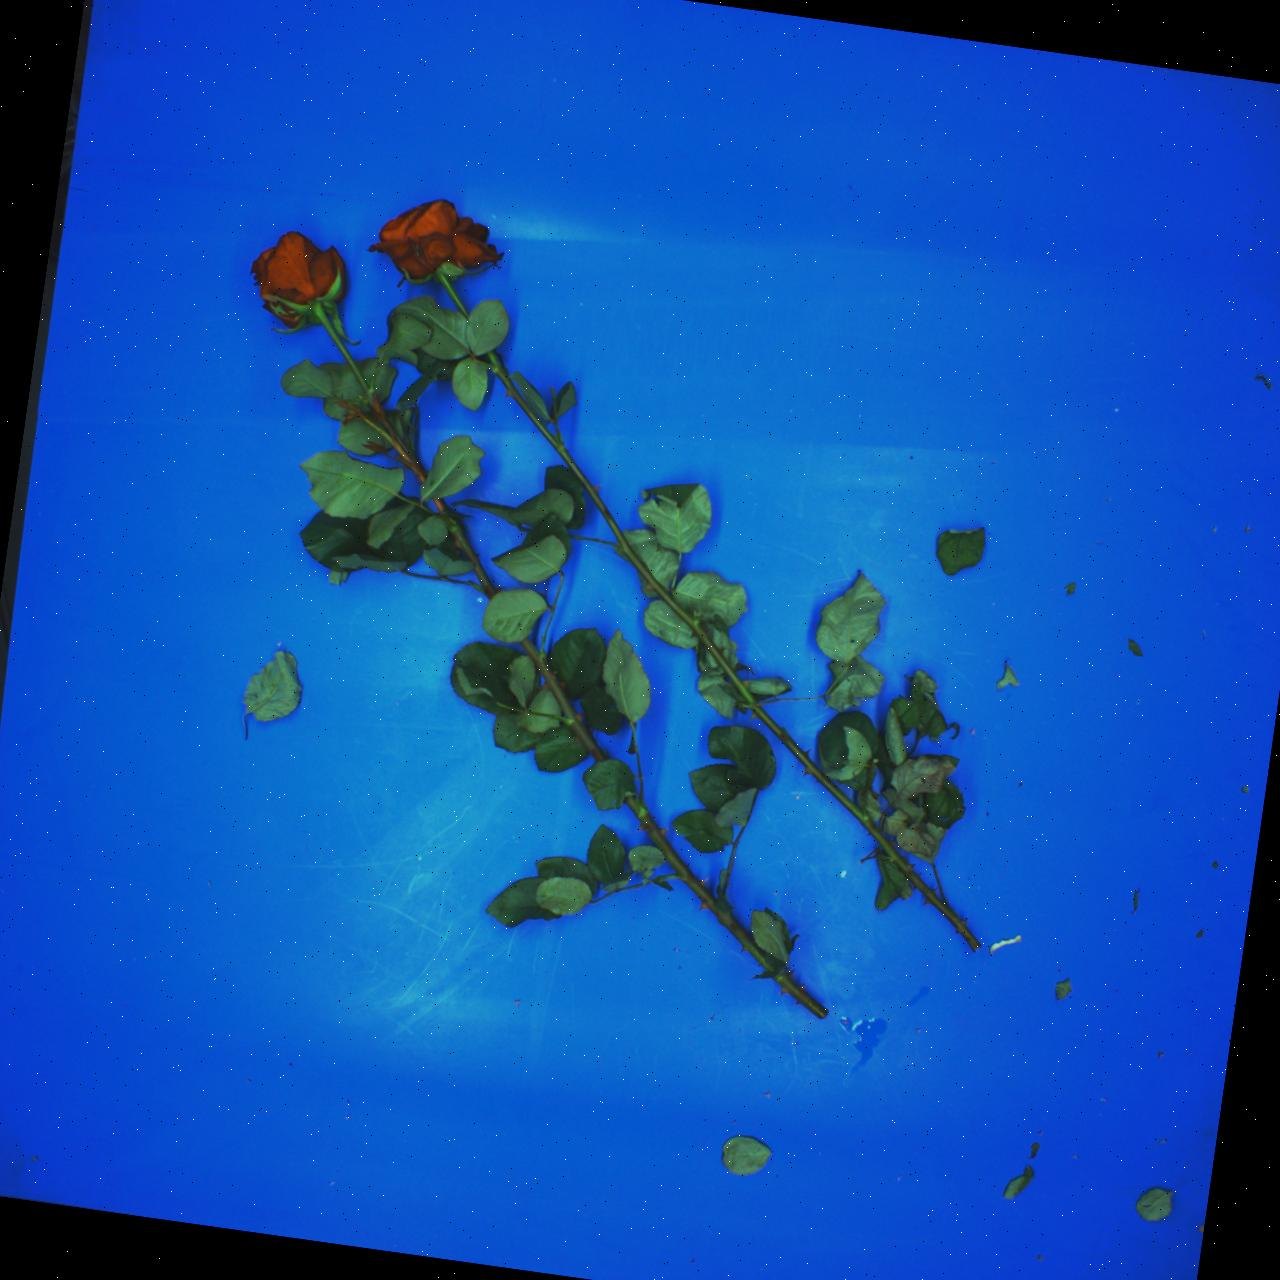Stem: (470, 349, 982, 964), (614, 790, 831, 1027), (308, 304, 428, 483), (517, 635, 608, 767), (452, 530, 498, 599), (437, 271, 471, 321), (433, 495, 448, 513)
flower: (361, 181, 503, 312), (237, 215, 360, 335)
